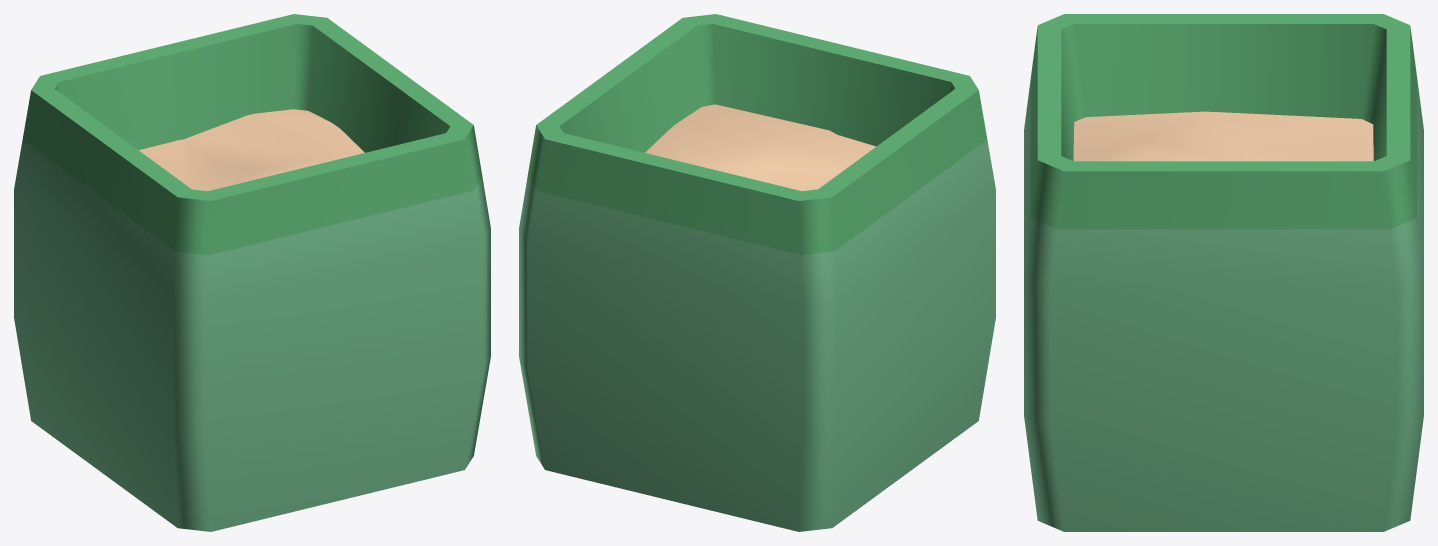
File: Barrier_015.glb
The picture shows the model from 3 angles, left to right: view 1: azimuth 30°, elevation 25°; view 2: azimuth 150°, elevation 25°; view 3: azimuth 270°, elevation 25°; orthographic projection. The views are drawn at different scales.
Visible parts, largest first — view 1: Barrier_015; view 2: Barrier_015; view 3: Barrier_015.
Part boxes in pixels (x1=…): Barrier_015: x1=14, y1=14, x2=490, y2=531; Barrier_015: x1=519, y1=14, x2=995, y2=531; Barrier_015: x1=1024, y1=14, x2=1423, y2=531.
Size of the model in its own units: 1.29 by 1.28 by 1.29.
Materials: 1 (1 with a texture image).
